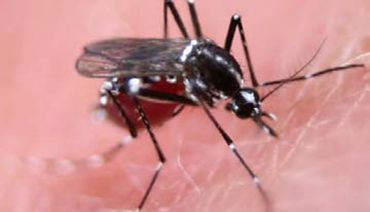dengue_mosquito: (75, 1, 329, 150)
